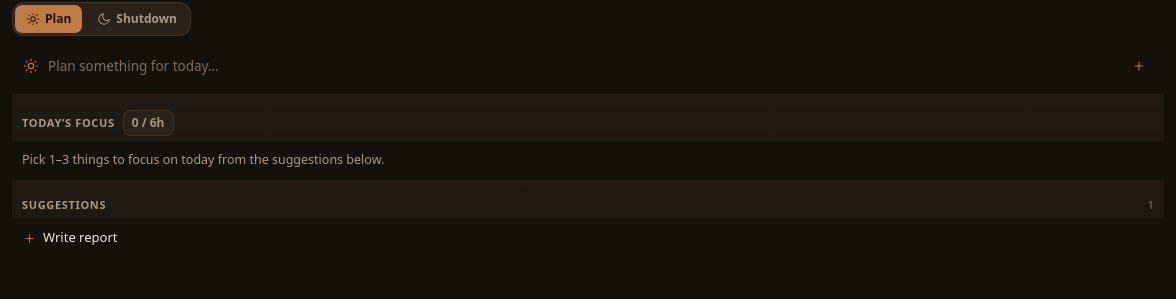
it: DailyWidget › optimistic-reverts and shows the error alert when plan.set rejects
expect the text "Write report" is shown: met, box x1=43 y1=228 x2=118 y2=246
Click the button "Write report": (80, 237) x1=12 y1=220 x2=1164 y2=256
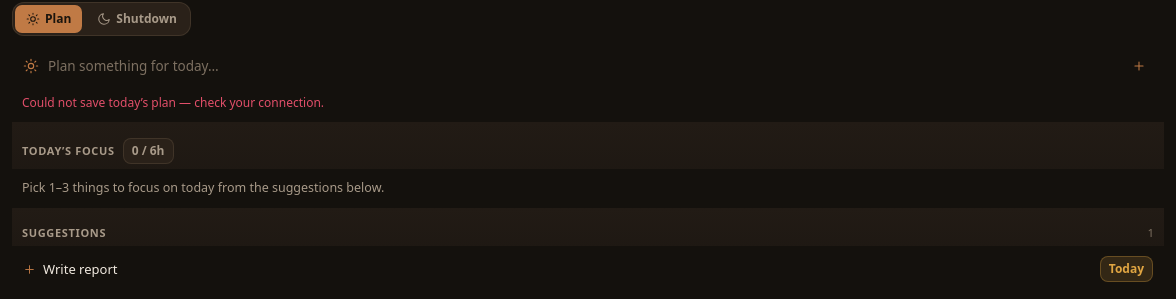
expect the message shows "Could not save today’s plan": met, box x1=22 y1=94 x2=324 y2=111
